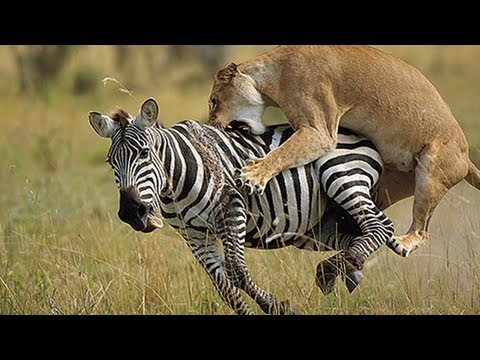lion: (205, 43, 476, 249)
zebra: (87, 97, 391, 312)
